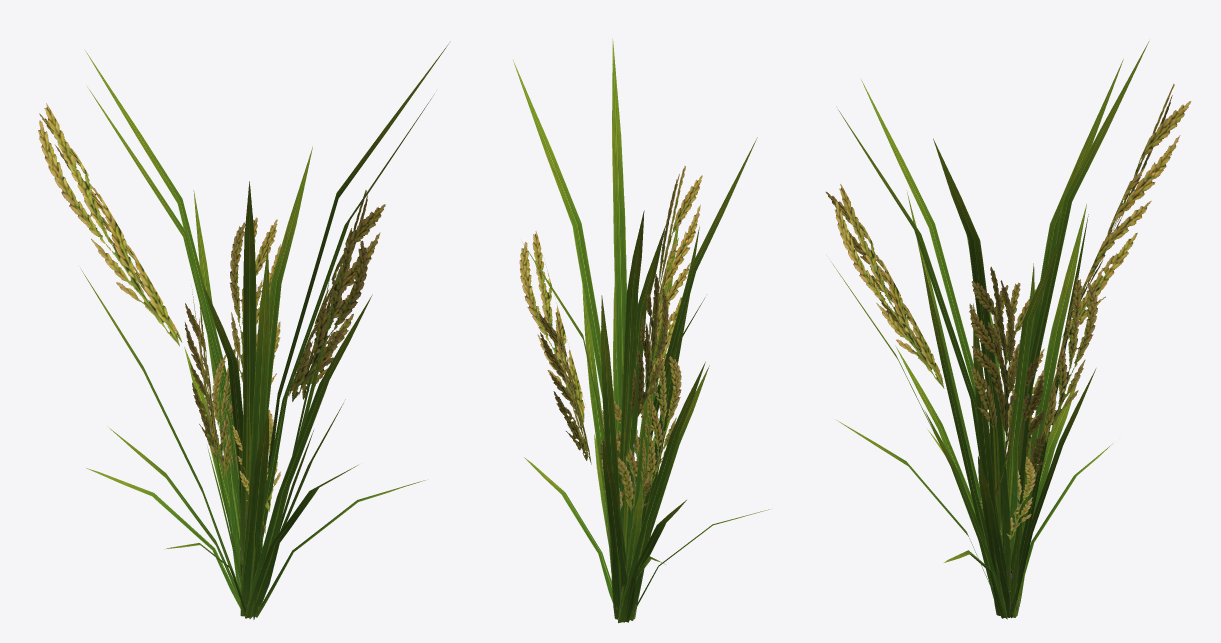
Rendered from Reworked RicePlant_LOD3.fbx.
3 views of the same model, side by side, from view 1: azimuth 30°, elevation 25°; view 2: azimuth 150°, elevation 25°; view 3: azimuth 270°, elevation 25° (orthographic). The views are drawn at different scales.
Parts seen in each view (by area): view 1: riceleaf_1, ricenose_2, stem 02_0; view 2: riceleaf_1, ricenose_2, stem 02_0; view 3: riceleaf_1, ricenose_2, stem 02_0.
Boxes of the visible parts, x1=… form: riceleaf_1: x1=80, y1=41, x2=450, y2=619; ricenose_2: x1=38, y1=103, x2=385, y2=533; stem 02_0: x1=209, y1=219, x2=331, y2=535; riceleaf_1: x1=512, y1=39, x2=769, y2=623; ricenose_2: x1=519, y1=165, x2=702, y2=535; stem 02_0: x1=580, y1=238, x2=688, y2=543; riceleaf_1: x1=831, y1=41, x2=1149, y2=619; ricenose_2: x1=825, y1=83, x2=1191, y2=539; stem 02_0: x1=946, y1=213, x2=1066, y2=616.
Size of the model in its own units: 70.14 by 122 by 74.34.
3 materials, 3 textured.
